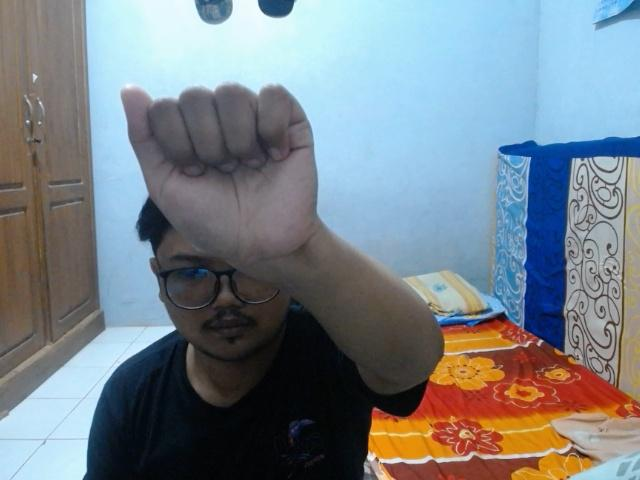Grab: (117, 77, 328, 273)
